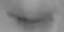LeftEyeFatigue: (5, 5, 62, 29)
